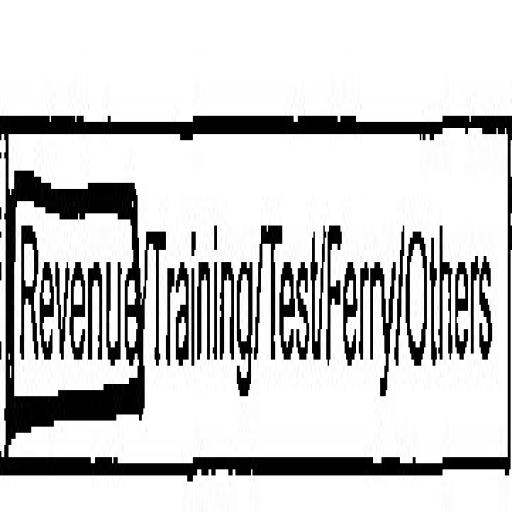check: (0, 49, 145, 512)
